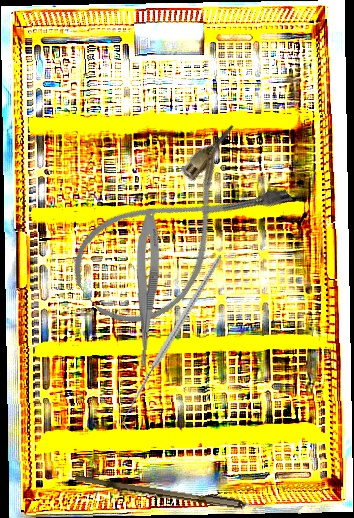Cannula: (56, 119, 299, 346)
Hook Surgical: (74, 254, 273, 431)
Micro Scissor: (134, 207, 161, 379)
Surgical Spoon: (74, 475, 302, 518)
